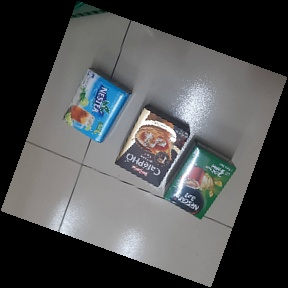CF pho: (115, 105, 190, 188)
Nes Rang: (163, 139, 237, 221)
Nestea: (63, 68, 132, 142)
